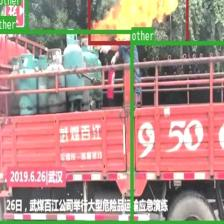fire: (88, 0, 188, 44)
